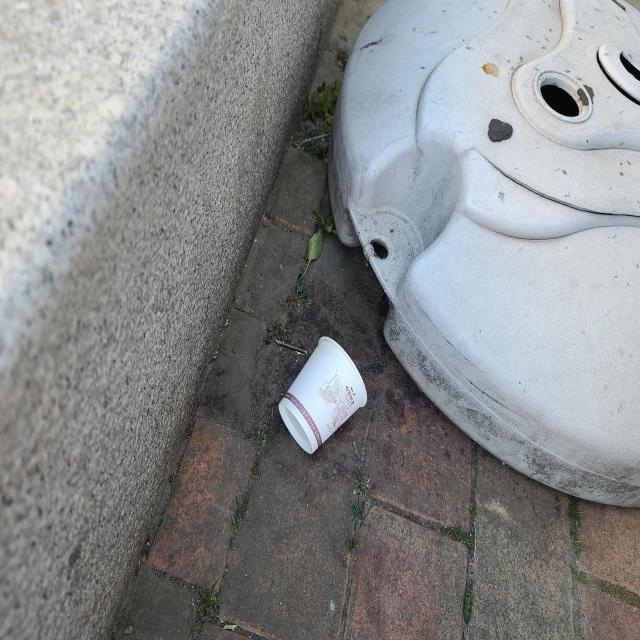paperpack: (279, 336, 367, 454)
